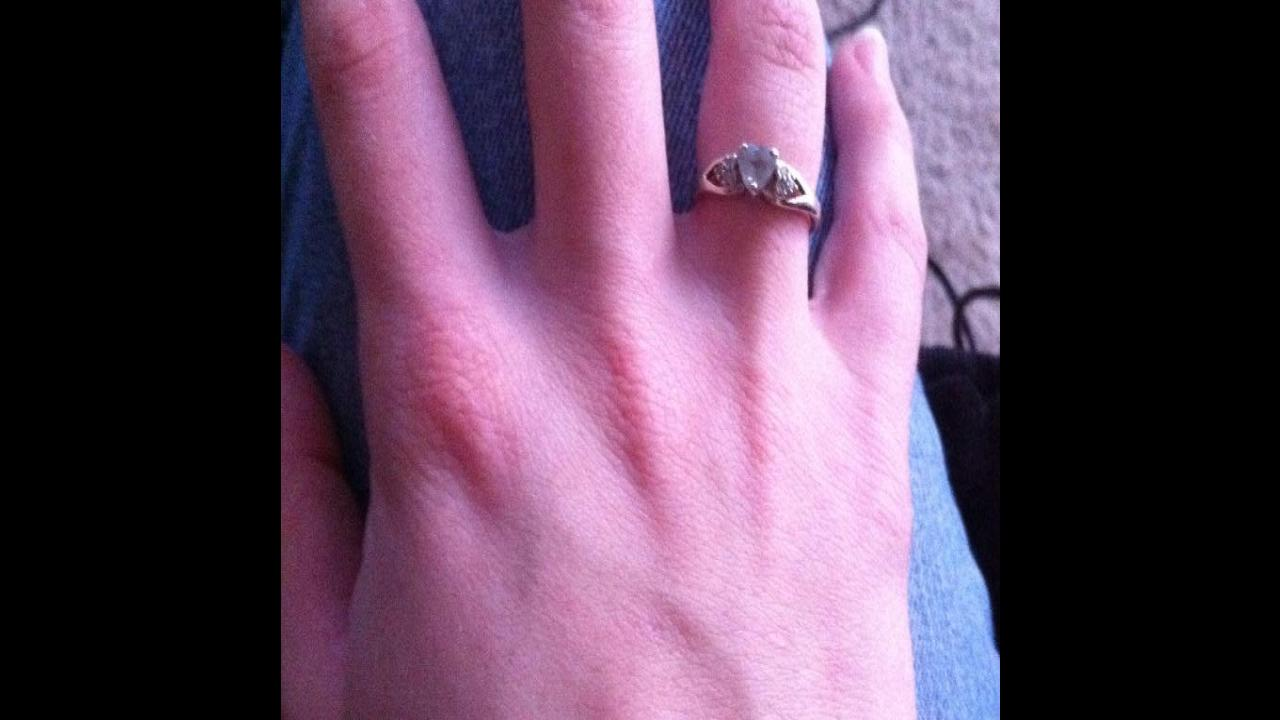ring: (694, 141, 820, 230)
